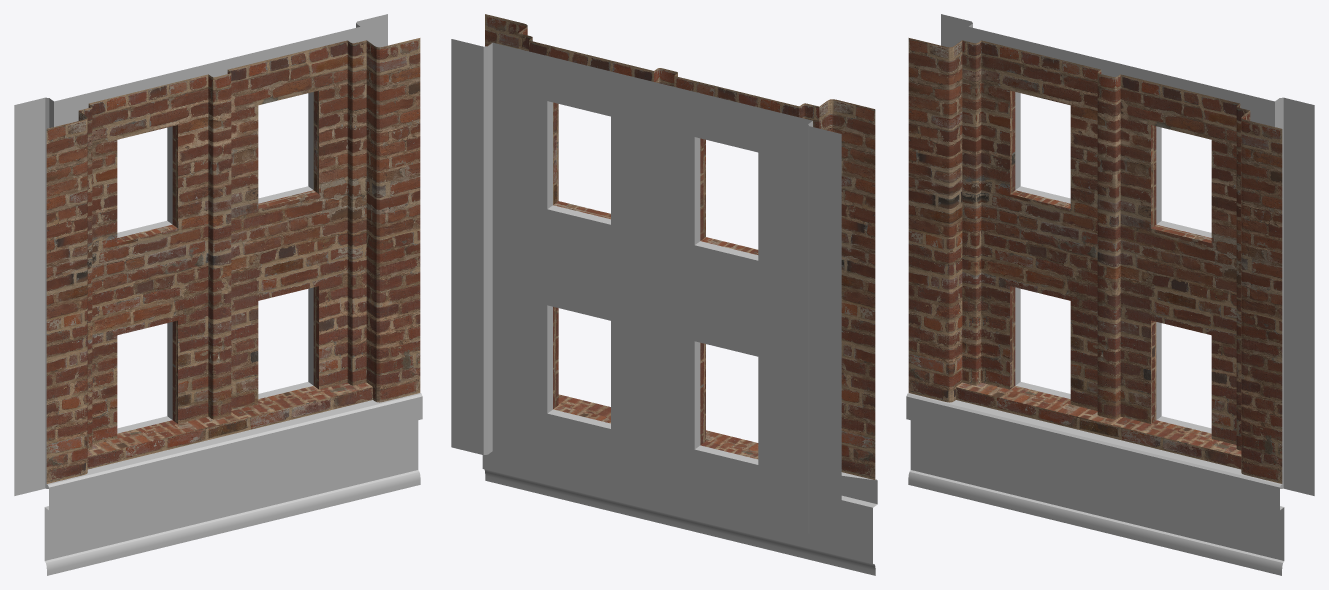
The model's file is SM_Wall_Windows_C.fbx.
3 views of the same model, side by side, from view 1: azimuth 30°, elevation 25°; view 2: azimuth 150°, elevation 25°; view 3: azimuth 330°, elevation 25° (orthographic). The views are drawn at different scales.
Visible parts, largest first — view 1: SM_Wall_Windows_C; view 2: SM_Wall_Windows_C; view 3: SM_Wall_Windows_C.
Boxes of the visible parts, x1=… form: SM_Wall_Windows_C: x1=14, y1=14, x2=422, y2=575; SM_Wall_Windows_C: x1=451, y1=14, x2=877, y2=575; SM_Wall_Windows_C: x1=906, y1=14, x2=1314, y2=575.
Size of the model in its own units: 700 by 112 by 800.
